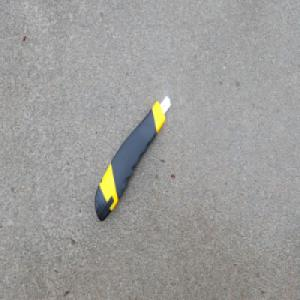Cutter: (93, 94, 171, 223)
